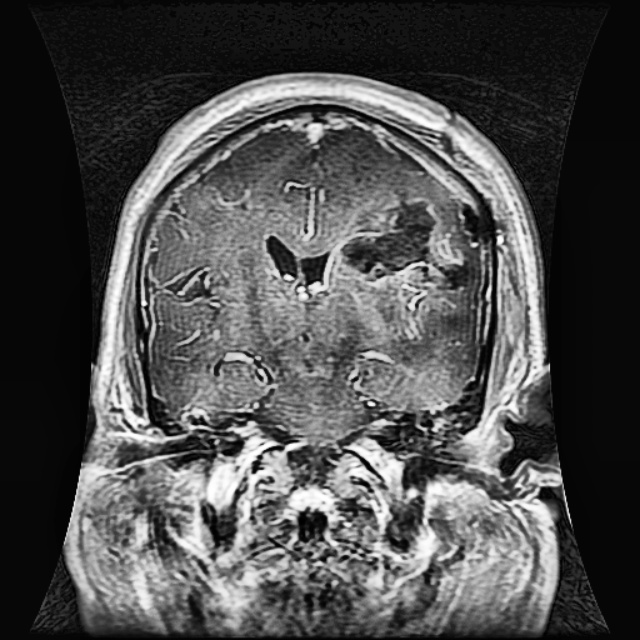Glioma: (340, 192, 480, 335)
